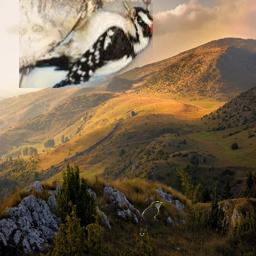Cuckoo: (139, 201, 165, 236)
Woodpecker: (19, 0, 153, 88)
